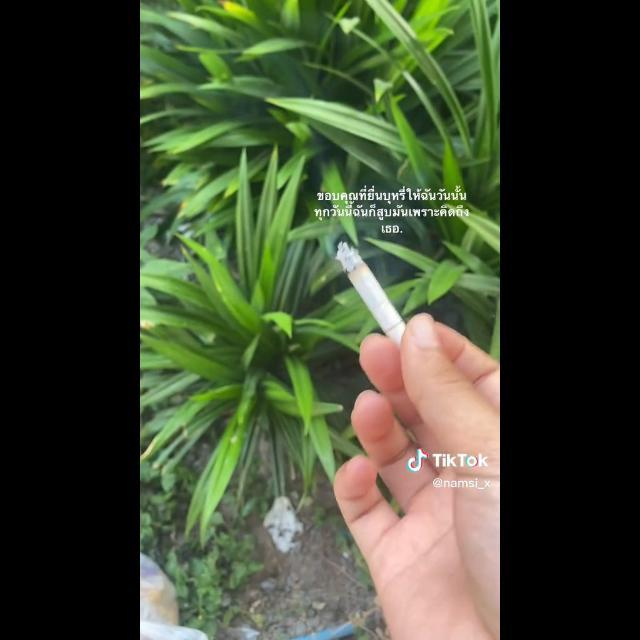rokok: (321, 238, 409, 336)
